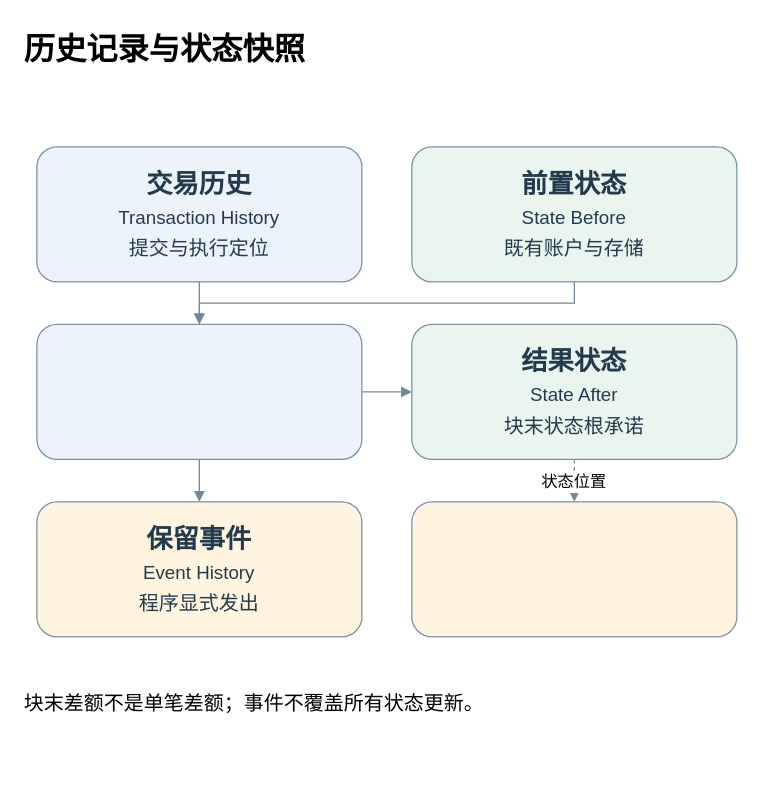
Image size: 773x791. Some labels were removed from this diagram. Each missing label, with the centre of its shape:
"历史状态读取 Historical State 位置与服务能力受限" goes at point 574,569.
"按顺序执行 State Transition 读取与更新" goes at point 199,391.
